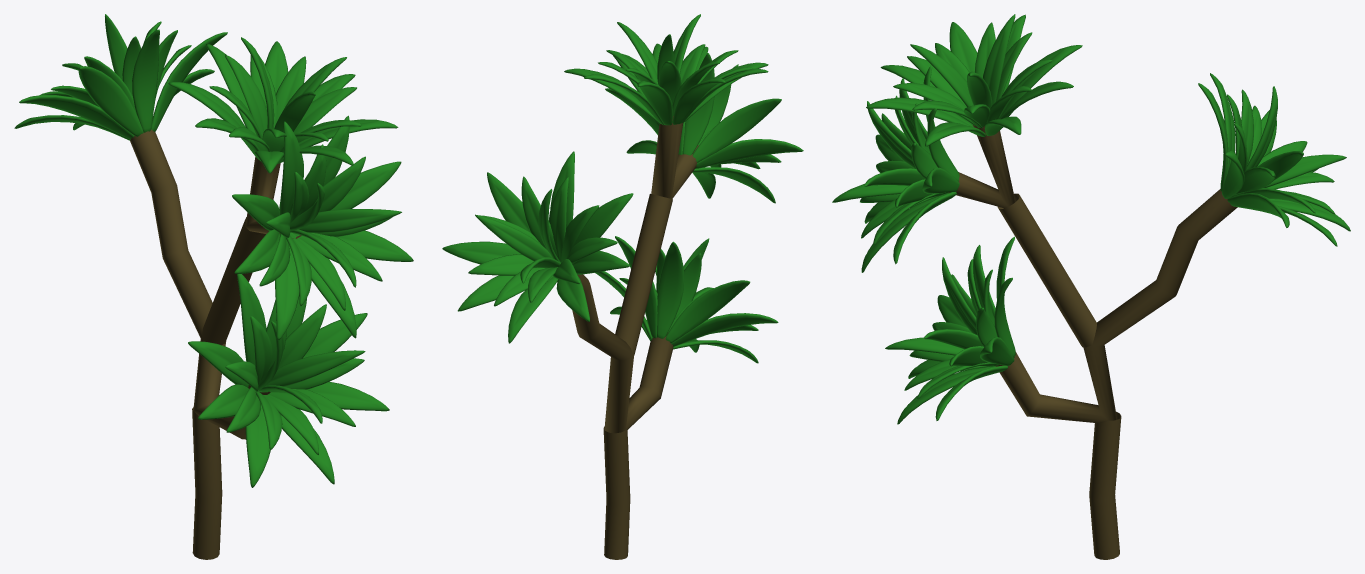
File: tree1.glb
3 views of the same model, side by side, from view 1: azimuth 30°, elevation 25°; view 2: azimuth 150°, elevation 25°; view 3: azimuth 270°, elevation 25° (orthographic). The views are drawn at different scales.
Parts seen in each view (by area): view 1: Plane.002, Plane.001, Vert, Plane.004, Plane.003; view 2: Plane.003, Vert, Plane.004, Plane.001, Plane.002; view 3: Vert, Plane.004, Plane.001, Plane.003, Plane.002.
Boxes of the visible parts, box(x1,y1,x2,y2) form: Plane.002: box(232, 115, 413, 340); Plane.001: box(188, 274, 389, 487); Vert: box(130, 129, 301, 559); Plane.004: box(168, 37, 398, 173); Plane.003: box(14, 14, 227, 140); Plane.003: box(442, 151, 633, 343); Vert: box(572, 116, 698, 559); Plane.004: box(564, 14, 768, 125); Plane.001: box(595, 236, 778, 363); Plane.002: box(605, 53, 803, 203); Vert: box(948, 125, 1237, 559); Plane.004: box(866, 14, 1082, 146); Plane.001: box(885, 236, 1015, 424); Plane.003: box(1198, 73, 1350, 246); Plane.002: box(832, 65, 959, 272).
Bounding box in the file's own units: 1.06 × 2.73 × 2.4.
